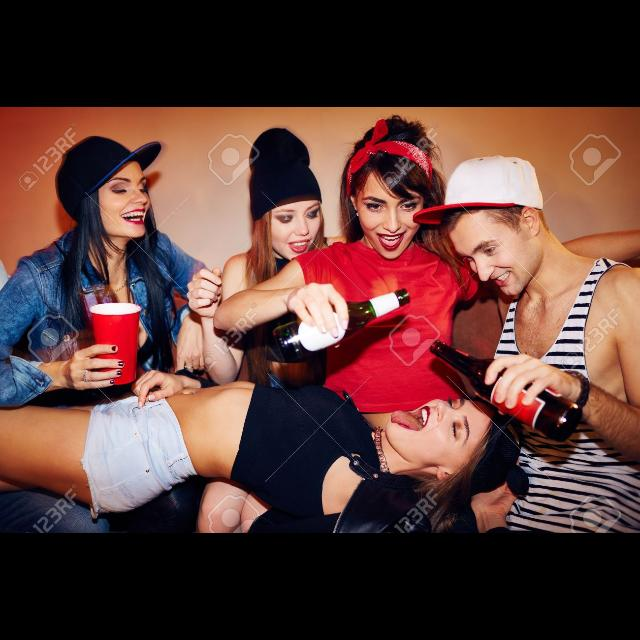head: (446, 162, 546, 298), (380, 390, 518, 488), (349, 130, 436, 260), (61, 142, 152, 238), (252, 172, 322, 266)
person: (1, 366, 473, 520)
